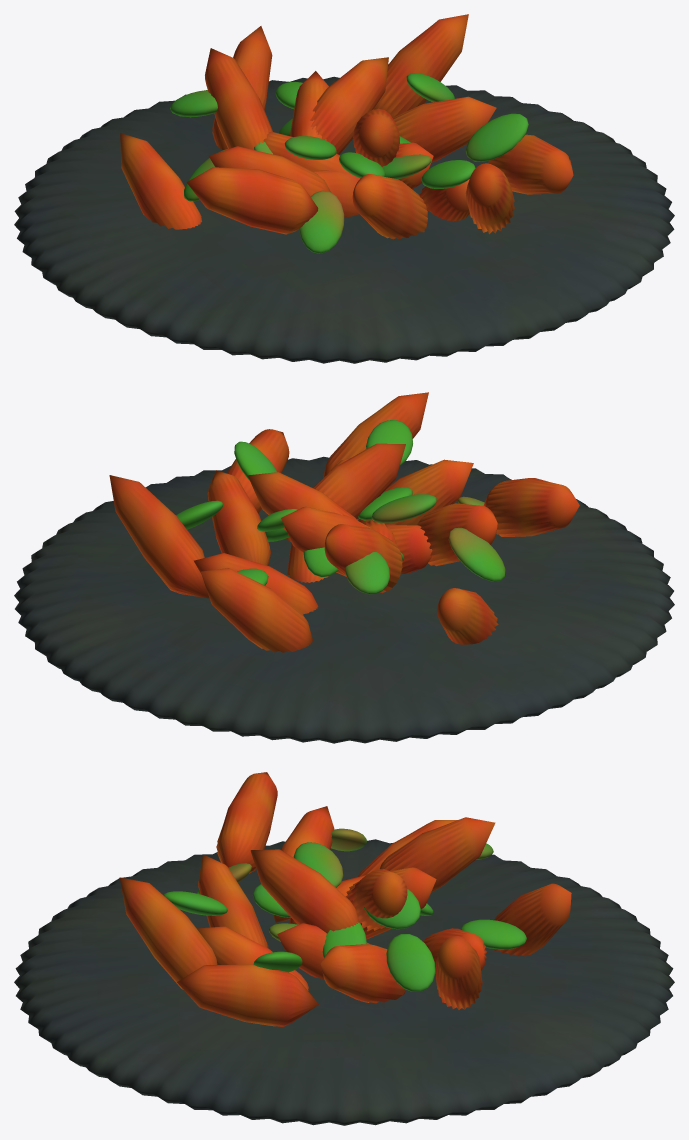
Rendered from crispy-chilli-babycorn-high.glb.
3 views of the same model, one above another, from view 1: azimuth 30°, elevation 25°; view 2: azimuth 150°, elevation 25°; view 3: azimuth 270°, elevation 25° (orthographic).
Visible parts, largest first — view 1: Mesh_Wok_Shallow_Dish, Mesh_Crispy_Chilli_Babycorn_Spears, Mesh_Wok_Bell_Peppers_And_Scallions; view 2: Mesh_Wok_Shallow_Dish, Mesh_Crispy_Chilli_Babycorn_Spears, Mesh_Wok_Bell_Peppers_And_Scallions; view 3: Mesh_Wok_Shallow_Dish, Mesh_Crispy_Chilli_Babycorn_Spears, Mesh_Wok_Bell_Peppers_And_Scallions.
Part boxes in pixels (box(x1,y1,x2,y2)): Mesh_Wok_Shallow_Dish: box(14, 76, 674, 363); Mesh_Crispy_Chilli_Babycorn_Spears: box(120, 14, 573, 239); Mesh_Wok_Bell_Peppers_And_Scallions: box(170, 73, 528, 253); Mesh_Wok_Shallow_Dish: box(14, 456, 674, 743); Mesh_Crispy_Chilli_Babycorn_Spears: box(109, 392, 579, 652); Mesh_Wok_Bell_Peppers_And_Scallions: box(176, 420, 505, 594); Mesh_Wok_Shallow_Dish: box(14, 839, 674, 1125); Mesh_Crispy_Chilli_Babycorn_Spears: box(119, 772, 571, 1026); Mesh_Wok_Bell_Peppers_And_Scallions: box(163, 828, 526, 991).
Size of the model in its own units: 2 by 0.55 by 2.
3 materials, 3 textured.
